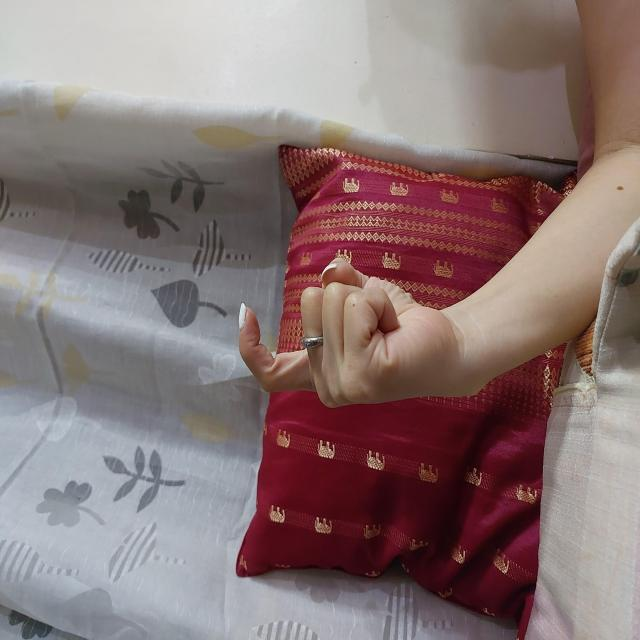X: (228, 236, 385, 463)
